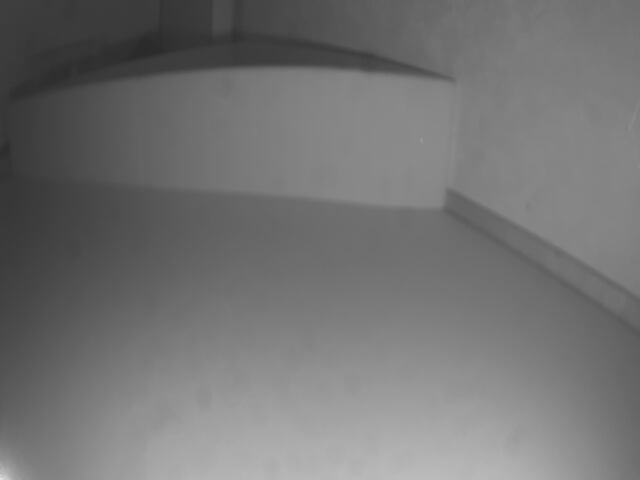Point: (11, 74, 456, 211)
